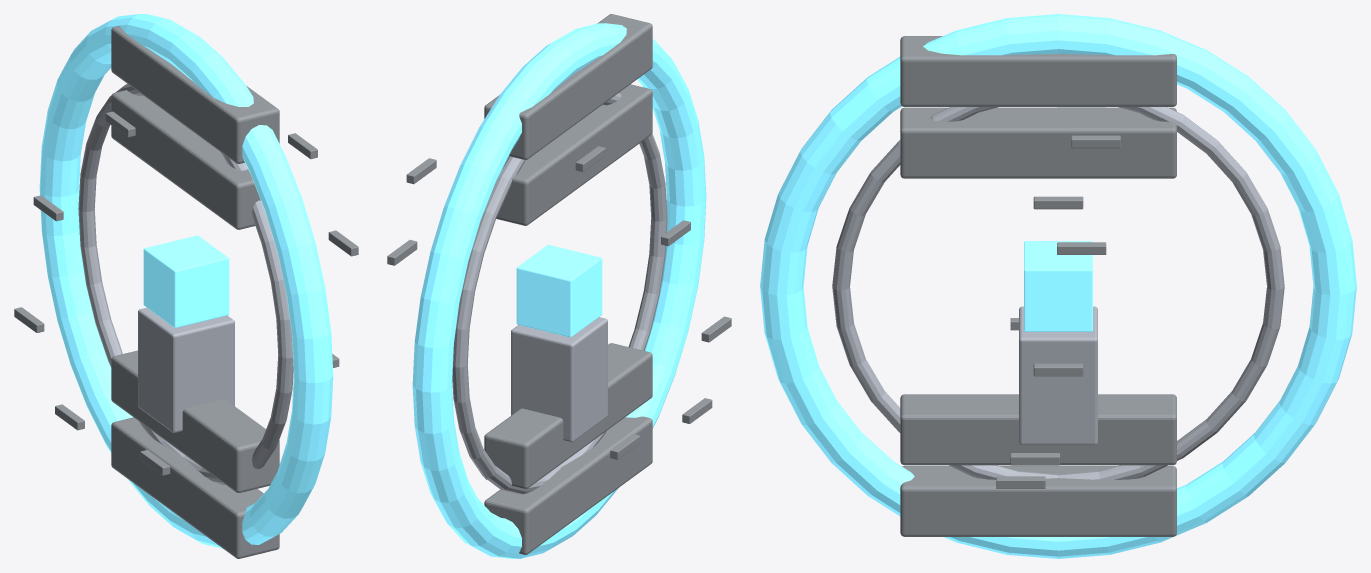
File: place_gate_jump_ring.glb
The picture shows the model from 3 angles, left to right: view 1: azimuth 30°, elevation 25°; view 2: azimuth 150°, elevation 25°; view 3: azimuth 270°, elevation 25°; orthographic projection. The views are drawn at different scales.
Parts seen in each view (by area): view 1: Gate_Outer_Ring, Gate_Inner_Ring, Gate_Hub, Gate_Pylon_8, Gate_Pylon_-12, Gate_Pylon_-8, Gate_Pylon_12, Gate_Core, Gate_Strut_0, Gate_Strut_4; view 2: Gate_Outer_Ring, Gate_Inner_Ring, Gate_Hub, Gate_Pylon_8, Gate_Pylon_-12, Gate_Pylon_-8, Gate_Pylon_12, Gate_Core, Gate_Strut_5, Gate_Strut_1; view 3: Gate_Outer_Ring, Gate_Pylon_8, Gate_Pylon_-12, Gate_Inner_Ring, Gate_Pylon_-8, Gate_Pylon_12, Gate_Hub, Gate_Core.
Boxes of the visible parts, x1,y1,x2,y2 form: Gate_Outer_Ring: (39, 14, 333, 548); Gate_Inner_Ring: (78, 83, 293, 484); Gate_Hub: (138, 307, 234, 432); Gate_Pylon_8: (111, 90, 260, 229); Gate_Pylon_-12: (111, 417, 279, 558); Gate_Pylon_-8: (111, 350, 279, 492); Gate_Pylon_12: (111, 26, 279, 163); Gate_Core: (143, 235, 229, 328); Gate_Strut_0: (328, 230, 358, 256); Gate_Strut_4: (33, 195, 63, 221); Gate_Outer_Ring: (412, 23, 706, 558); Gate_Inner_Ring: (452, 93, 667, 494); Gate_Hub: (511, 317, 607, 442); Gate_Pylon_8: (496, 84, 652, 225); Gate_Pylon_-12: (484, 416, 652, 554); Gate_Pylon_-8: (484, 343, 652, 489); Gate_Pylon_12: (484, 14, 652, 159); Gate_Core: (516, 244, 602, 337); Gate_Strut_5: (701, 316, 731, 342); Gate_Strut_1: (406, 158, 436, 184); Gate_Outer_Ring: (760, 14, 1356, 558); Gate_Pylon_8: (900, 107, 1176, 178); Gate_Pylon_-12: (900, 466, 1176, 536); Gate_Inner_Ring: (832, 107, 1284, 479); Gate_Pylon_-8: (900, 394, 1176, 465); Gate_Pylon_12: (900, 36, 1176, 106); Gate_Hub: (1019, 306, 1097, 445); Gate_Core: (1024, 241, 1092, 331).
Bounding box in the file's own units: 20.5 × 30.2 × 30.2.
